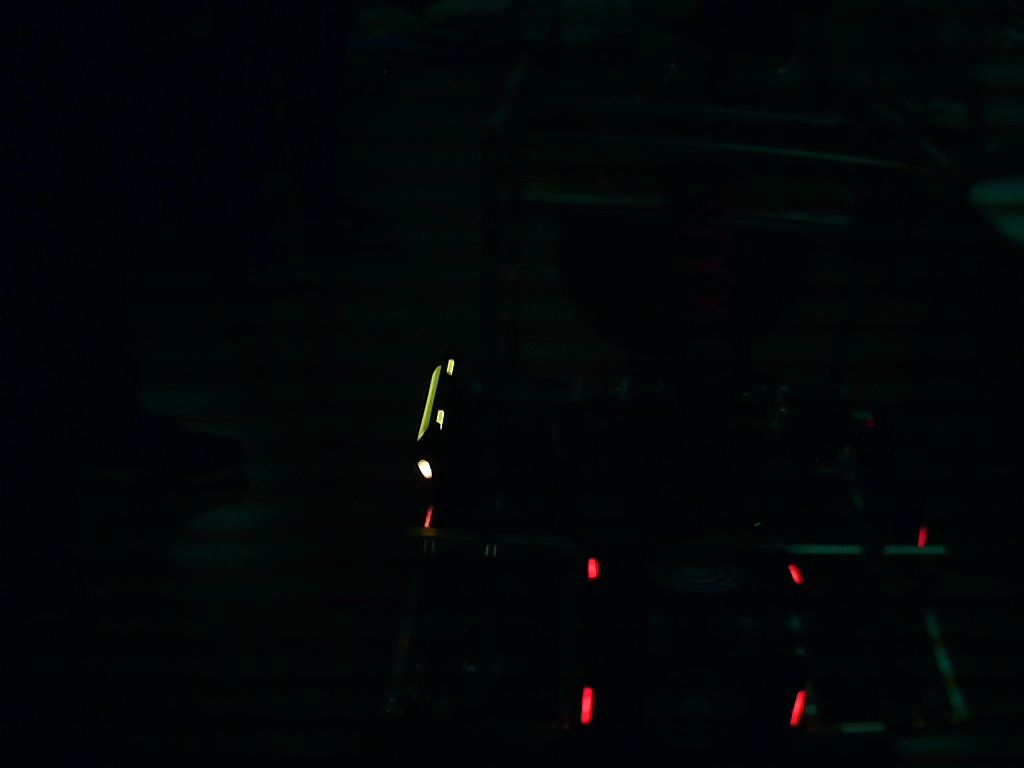lamp: (579, 684, 597, 726), (790, 686, 807, 728)
